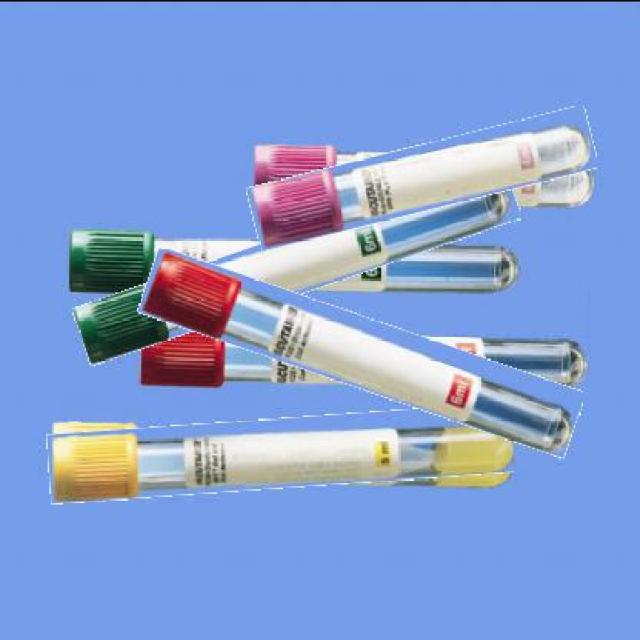Experimental-tube: (137, 282, 586, 422), (71, 196, 523, 329), (47, 408, 515, 494), (247, 123, 598, 228)
